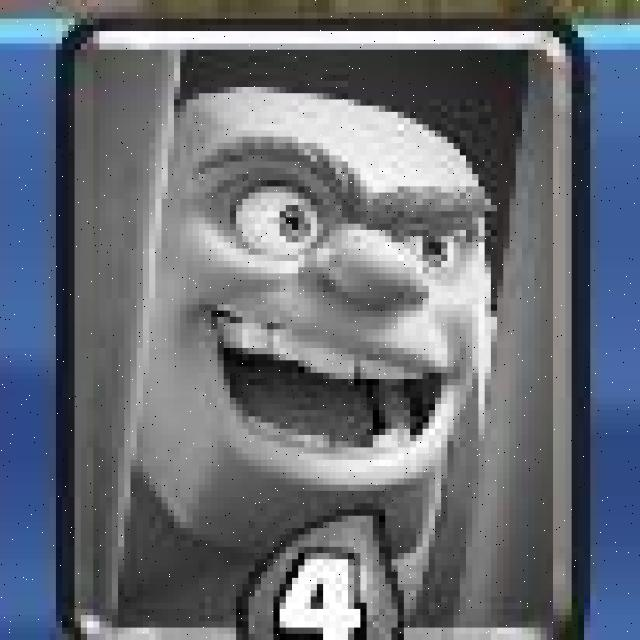Goblin_Cage: (51, 18, 585, 637)
